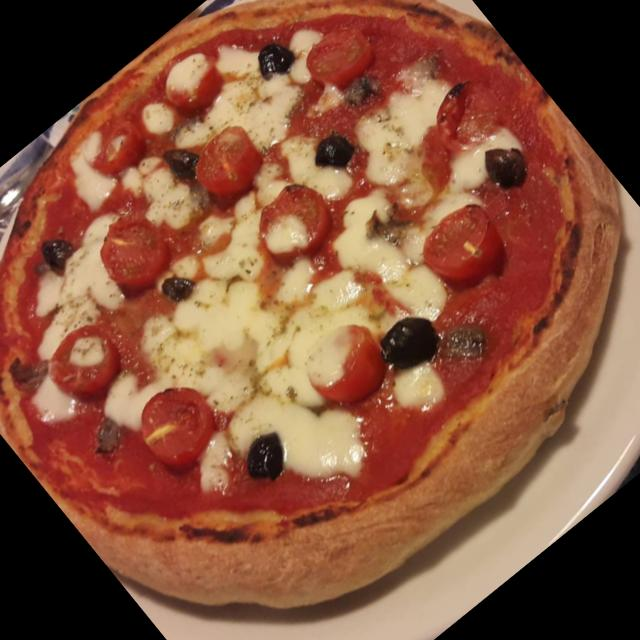black_olives: (373, 304, 447, 378), (474, 132, 540, 200), (234, 423, 296, 485), (33, 224, 90, 280), (246, 28, 302, 84), (305, 121, 360, 177), (157, 132, 210, 184), (158, 264, 202, 310)
pizza: (0, 0, 626, 613)
